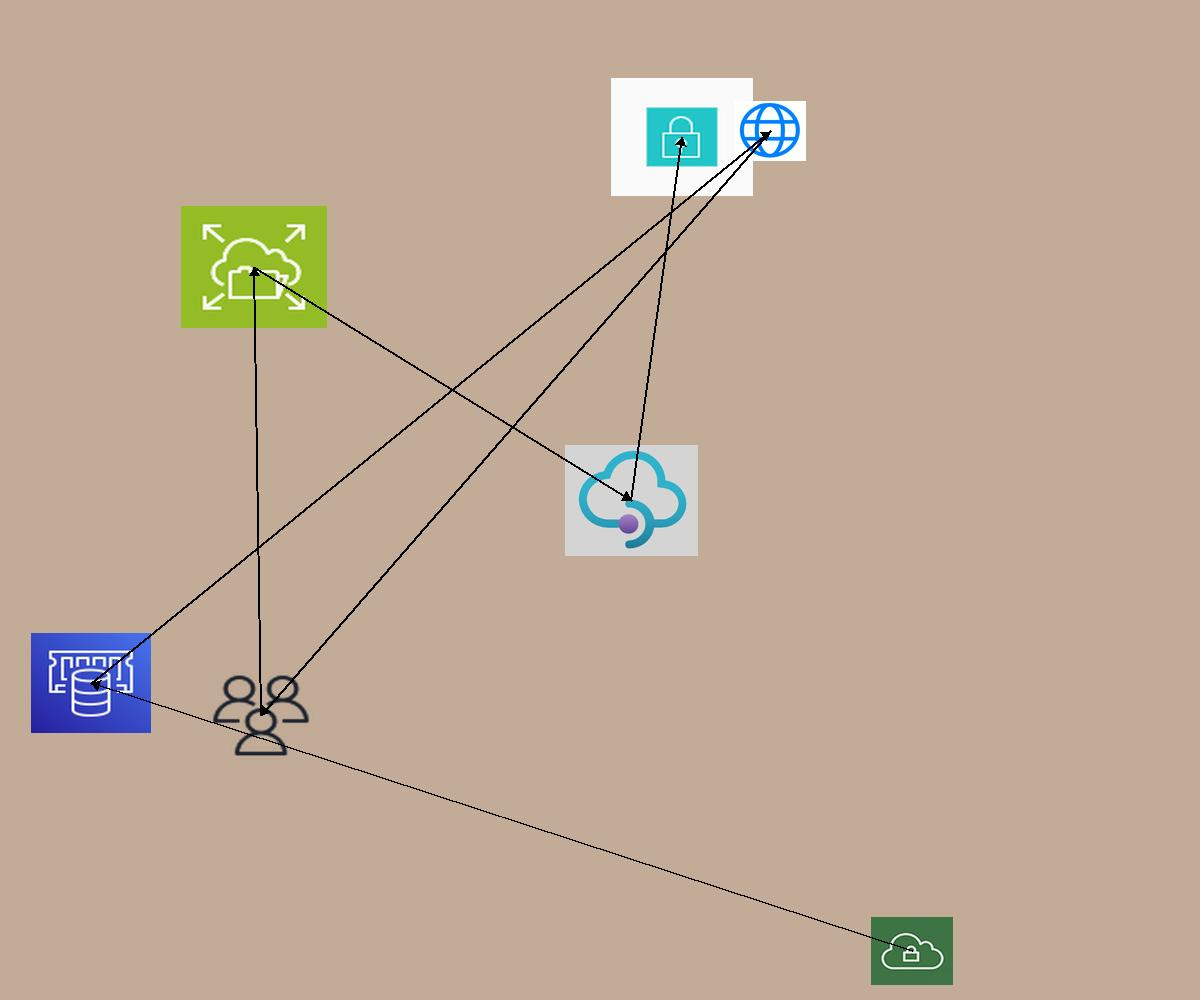AWS-EFS: (181, 206, 327, 328)
AWS-ElastiCache: (31, 633, 151, 733)
AWS-Private-subnet: (611, 78, 753, 196)
AWS-Private_vpc: (871, 917, 953, 985)
AWS-Res_Users: (209, 672, 313, 759)
Azure_api_gateway: (565, 445, 698, 556)
Azure_http: (734, 101, 806, 161)
